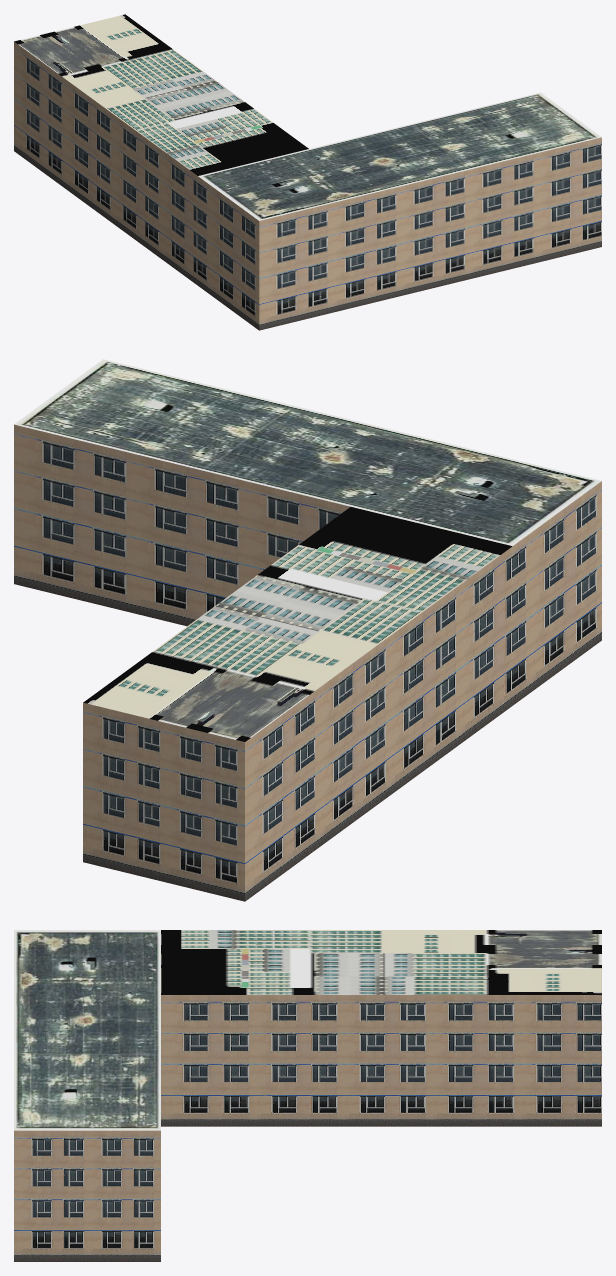
File: beijinglou_ae.FBX
The picture shows the model from 3 angles, top to bottom: view 1: azimuth 30°, elevation 25°; view 2: azimuth 150°, elevation 25°; view 3: azimuth 270°, elevation 25°; orthographic projection. The views are drawn at different scales.
Parts seen in each view (by area): view 1: beijinglou_ae; view 2: beijinglou_ae; view 3: beijinglou_ae.
Part boxes in pixels (x1,y1,x2,y2): beijinglou_ae: (14, 14, 601, 330); beijinglou_ae: (14, 359, 601, 901); beijinglou_ae: (14, 930, 601, 1261).
Size of the model in its own units: 39.25 by 48.64 by 12.
Materials: 3 (3 with a texture image).
